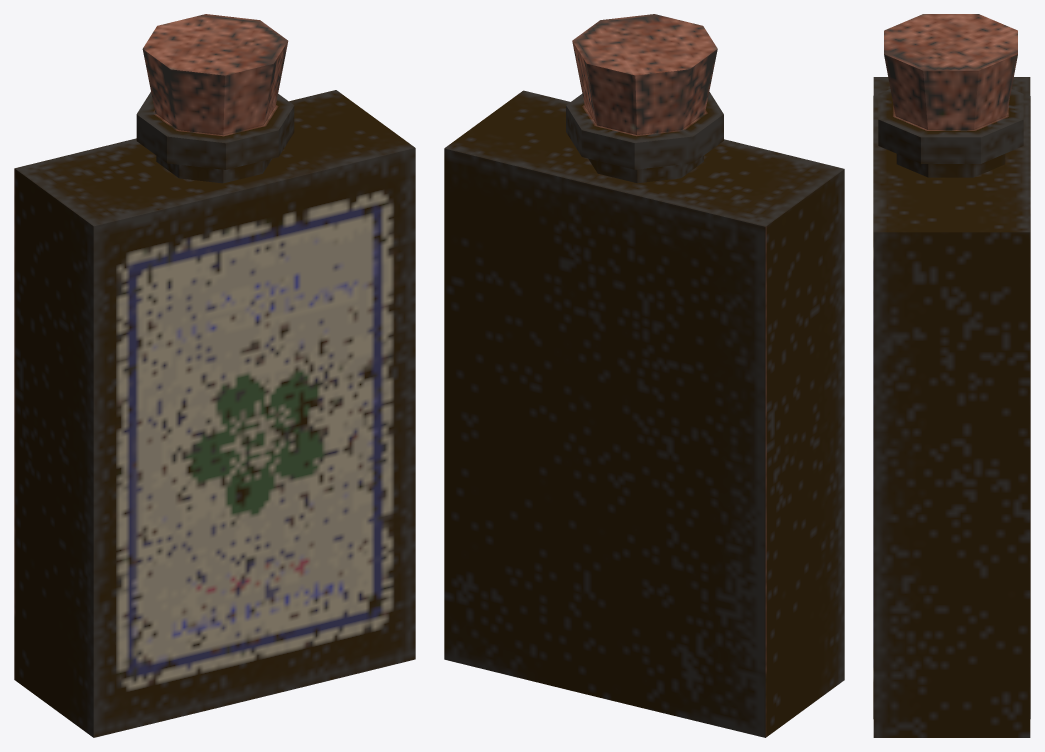
Rendered from medicine_bottle.fbx.
The picture shows the model from 3 angles, left to right: view 1: azimuth 30°, elevation 25°; view 2: azimuth 150°, elevation 25°; view 3: azimuth 270°, elevation 25°; orthographic projection.
Visible parts, largest first — view 1: medicine_bottle; view 2: medicine_bottle; view 3: medicine_bottle.
Boxes of the visible parts, x1=… form: medicine_bottle: x1=14, y1=14, x2=415, y2=737; medicine_bottle: x1=444, y1=14, x2=844, y2=737; medicine_bottle: x1=873, y1=14, x2=1030, y2=737.
Bounding box in the file's own units: 7 × 13 × 3.
1 material, 1 textured.
